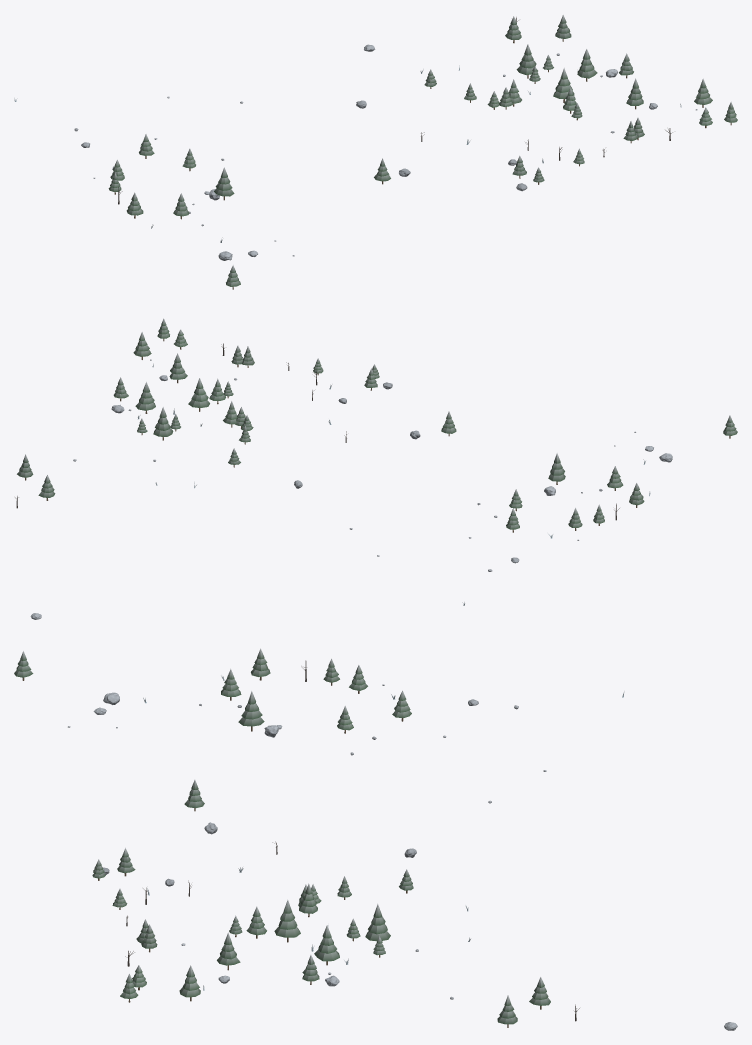
Rendered from frost_land_scatter_c15_09.glb.
3 views of the same model, one above another, from view 1: azimuth 30°, elevation 25°; view 2: azimuth 150°, elevation 25°; view 3: azimuth 270°, elevation 25° (orthographic). The views are drawn at different scales.
Parts seen in each view (by area): view 1: frost_land_scatter_c15_09; view 2: frost_land_scatter_c15_09; view 3: frost_land_scatter_c15_09.
Boxes of the visible parts, bbox=[...] form: frost_land_scatter_c15_09: bbox=[14, 15, 737, 289]; frost_land_scatter_c15_09: bbox=[15, 318, 737, 619]; frost_land_scatter_c15_09: bbox=[14, 648, 737, 1030].
Bounding box in the file's own units: 260 × 50.75 × 241.
